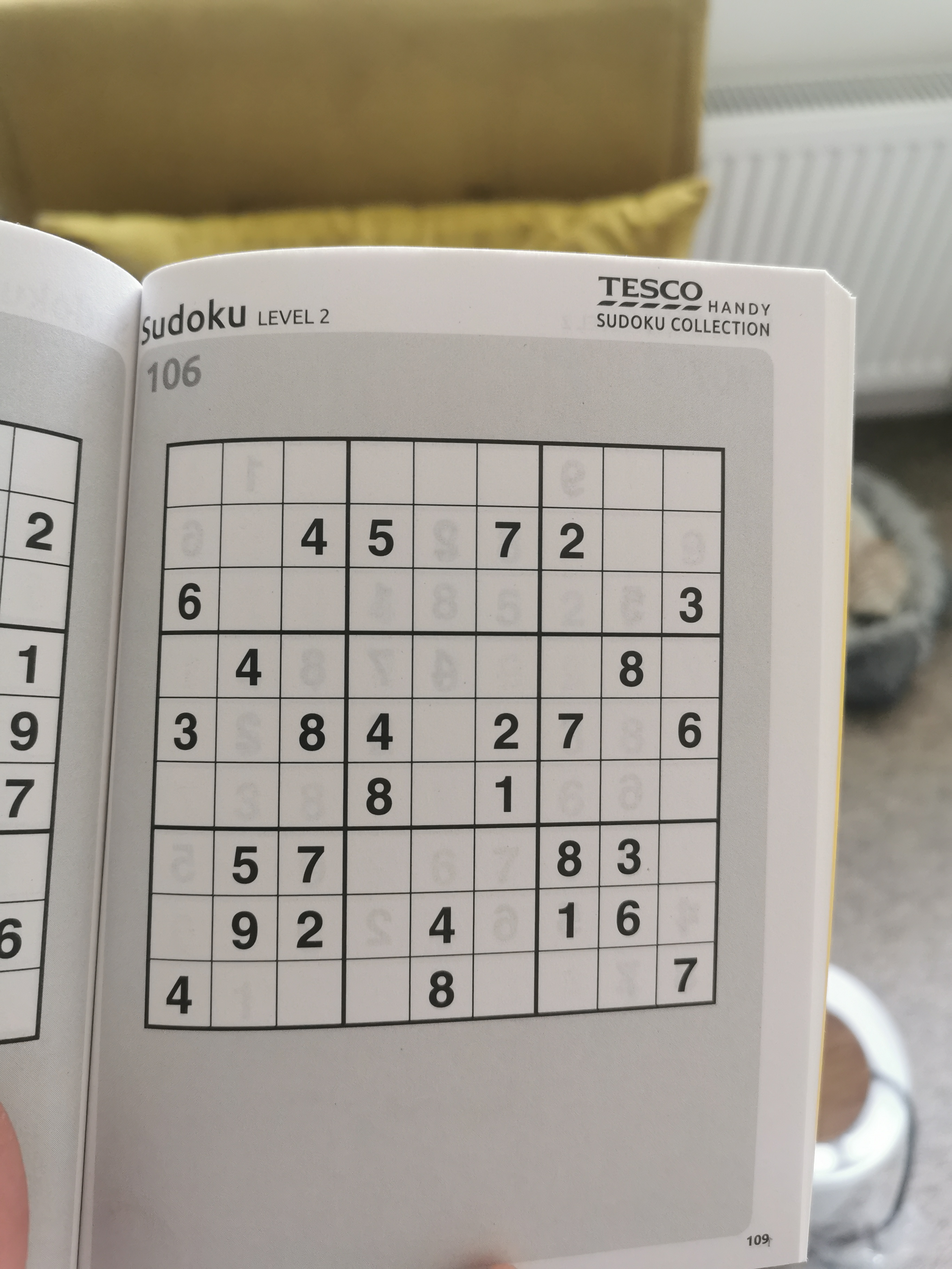sudoku: (140, 442, 727, 1035)
